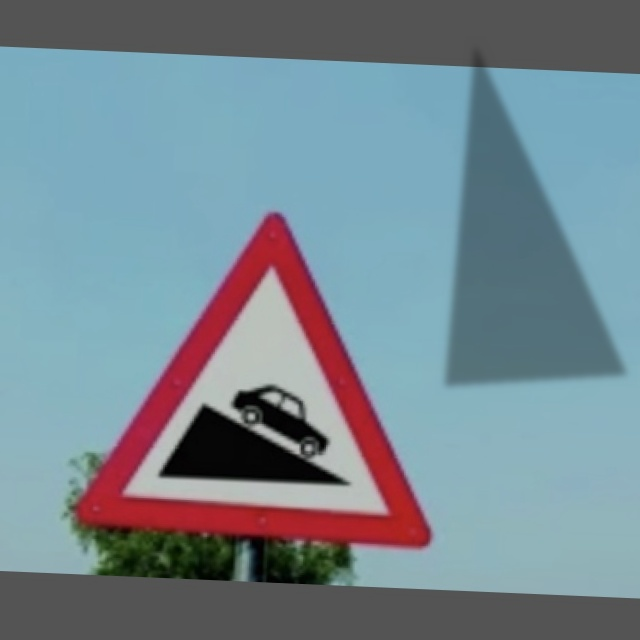Steep_Descent: (79, 209, 440, 544)
